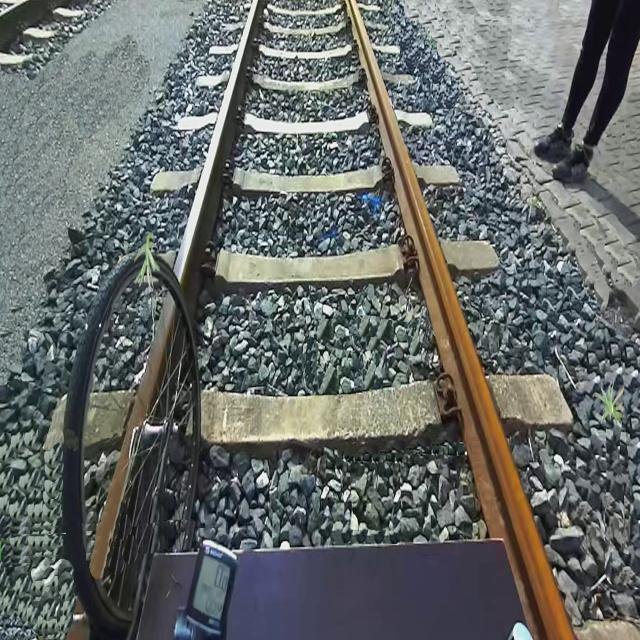Plant: (134, 233, 160, 290), (592, 379, 624, 425)
